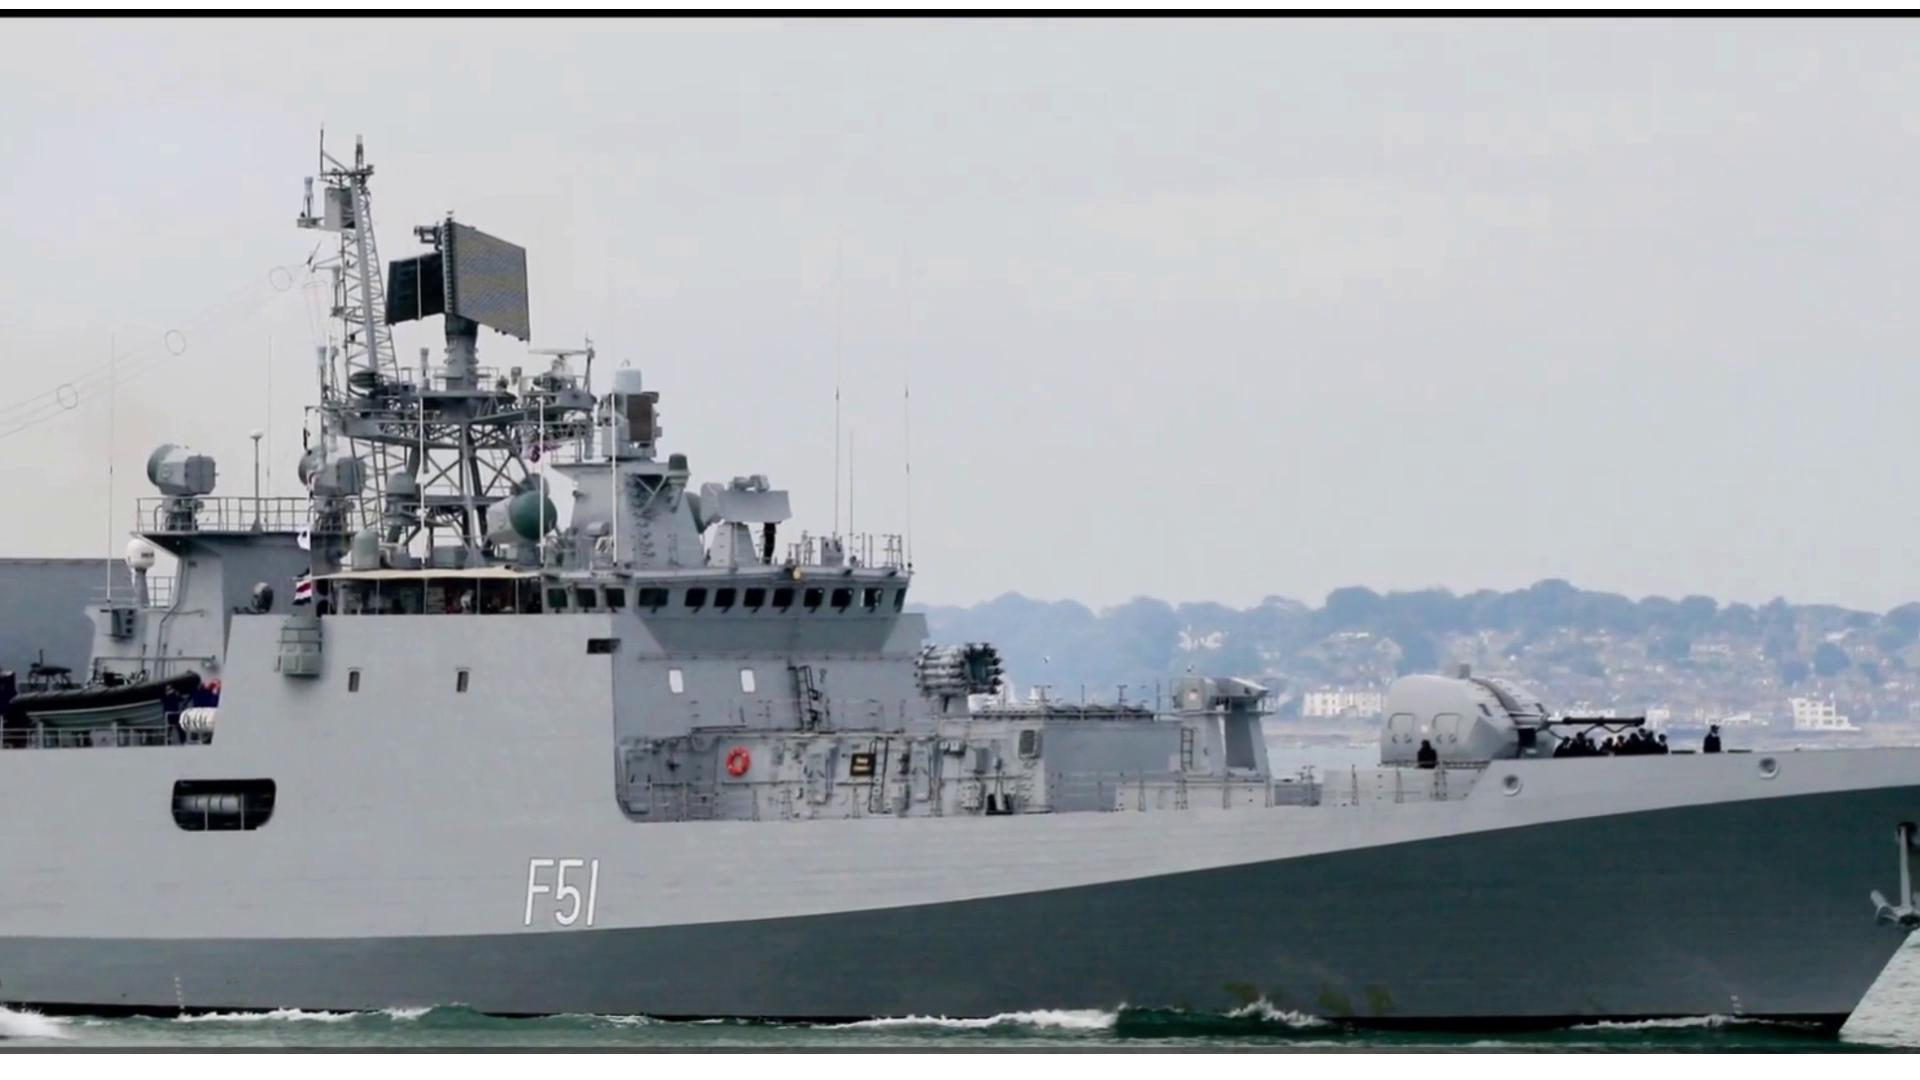OCR: (512, 849, 615, 939)
